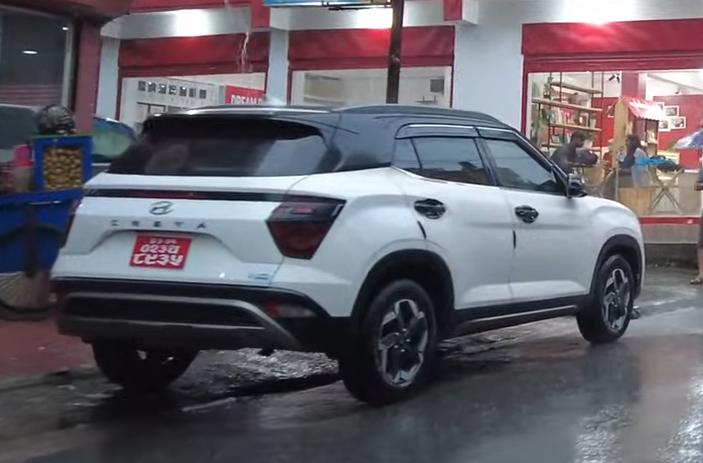car: (48, 97, 647, 406)
